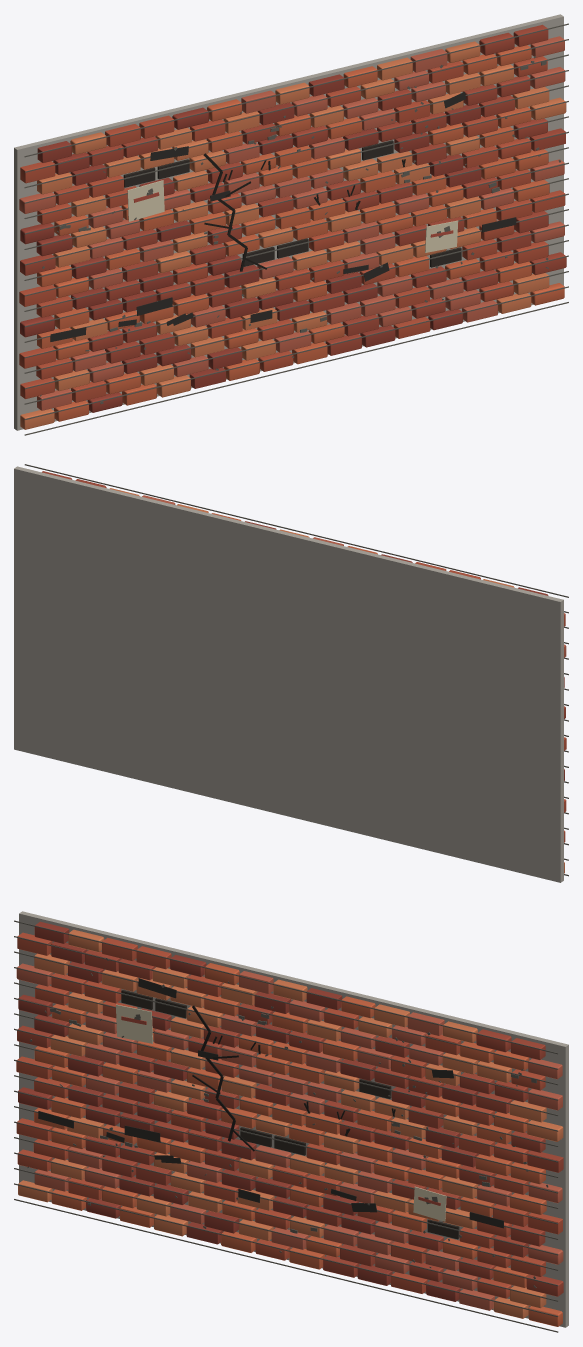
Rendered from nyc_1960_red_brick_wall_only.fbx.
3 views of the same model, one above another, from view 1: azimuth 30°, elevation 25°; view 2: azimuth 150°, elevation 25°; view 3: azimuth 330°, elevation 25° (orthographic).
Parts seen in each view (by area): view 1: single vertical mortar backing slab - WALL ONLY, torn faded paper remnant pasted flat to brick wall 1, darkened horizontal mortar joint, darkened horizontal mortar joint.002, darkened horizontal mortar joint.003, darkened horizontal mortar joint.001, darkened horizontal mortar joint.018, darkened horizontal mortar joint.017, darkened horizontal mortar joint.008, darkened horizontal mortar joint.009, darkened horizontal mortar joint.011, darkened horizontal mortar joint.010 (+156 smaller); view 2: single vertical mortar backing slab - WALL ONLY, darkened horizontal mortar joint.018; view 3: single vertical mortar backing slab - WALL ONLY, torn faded paper remnant pasted flat to brick wall 1, darkened horizontal mortar joint, darkened horizontal mortar joint.002, darkened horizontal mortar joint.003, darkened horizontal mortar joint.001, darkened horizontal mortar joint.018, darkened horizontal mortar joint.010, darkened horizontal mortar joint.008, darkened horizontal mortar joint.011, darkened horizontal mortar joint.017, darkened horizontal mortar joint.009 (+151 smaller).
Boxes of the visible parts, left/top/right/bottom form: single vertical mortar backing slab - WALL ONLY: left=14, top=14, right=563, bottom=430; torn faded paper remnant pasted flat to brick wall 1: left=127, top=180, right=164, bottom=221; darkened horizontal mortar joint: left=24, top=302, right=568, bottom=435; darkened horizontal mortar joint.002: left=24, top=271, right=568, bottom=404; darkened horizontal mortar joint.003: left=24, top=255, right=568, bottom=389; darkened horizontal mortar joint.001: left=24, top=286, right=568, bottom=419; darkened horizontal mortar joint.018: left=24, top=23, right=568, bottom=157; darkened horizontal mortar joint.017: left=24, top=39, right=568, bottom=172; darkened horizontal mortar joint.008: left=24, top=178, right=568, bottom=311; darkened horizontal mortar joint.009: left=24, top=162, right=568, bottom=296; darkened horizontal mortar joint.011: left=24, top=131, right=568, bottom=265; darkened horizontal mortar joint.010: left=24, top=147, right=568, bottom=280; single vertical mortar backing slab - WALL ONLY: left=14, top=466, right=563, bottom=882; darkened horizontal mortar joint.018: left=24, top=464, right=568, bottom=597; single vertical mortar backing slab - WALL ONLY: left=19, top=911, right=568, bottom=1327; torn faded paper remnant pasted flat to brick wall 1: left=116, top=1004, right=152, bottom=1043; darkened horizontal mortar joint: left=14, top=1199, right=558, bottom=1332; darkened horizontal mortar joint.002: left=14, top=1168, right=558, bottom=1301; darkened horizontal mortar joint.003: left=14, top=1152, right=558, bottom=1286; darkened horizontal mortar joint.001: left=14, top=1183, right=558, bottom=1316; darkened horizontal mortar joint.018: left=14, top=920, right=558, bottom=1054; darkened horizontal mortar joint.010: left=14, top=1044, right=558, bottom=1177; darkened horizontal mortar joint.008: left=14, top=1075, right=558, bottom=1208; darkened horizontal mortar joint.011: left=14, top=1028, right=558, bottom=1162; darkened horizontal mortar joint.017: left=14, top=936, right=558, bottom=1069; darkened horizontal mortar joint.009: left=14, top=1059, right=558, bottom=1193.
Bounding box in the file's own units: 795 × 391 × 26.5.
